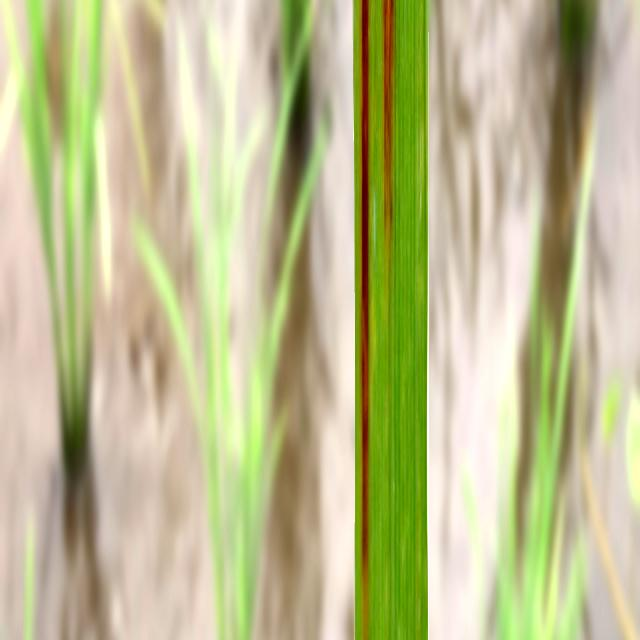NBS: (360, 0, 369, 640), (383, 0, 394, 229)
